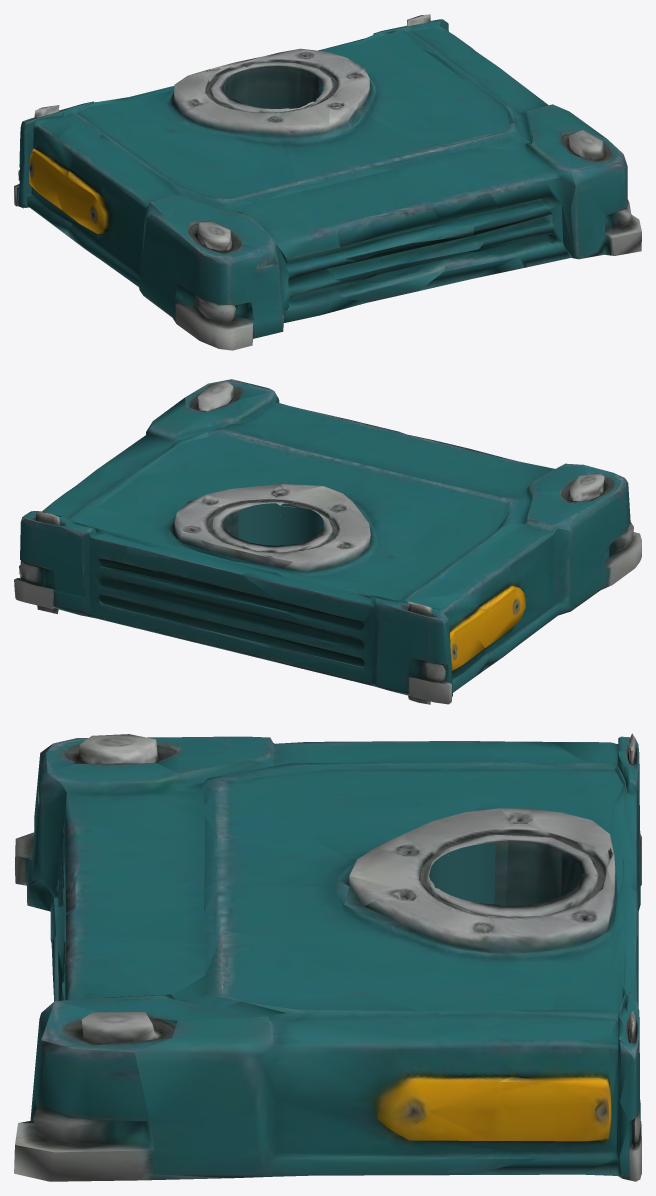
File: shaft-motor.glb
3 renders of one model, top to bottom at view 1: azimuth 30°, elevation 25°; view 2: azimuth 150°, elevation 25°; view 3: azimuth 270°, elevation 25°, orthographic. The views are drawn at different scales.
Parts seen in each view (by area): view 1: shaft-motor-body; view 2: shaft-motor-body; view 3: shaft-motor-body.
Part boxes in pixels (x1=…): shaft-motor-body: x1=14, y1=14, x2=641, y2=350; shaft-motor-body: x1=14, y1=379, x2=641, y2=704; shaft-motor-body: x1=14, y1=733, x2=641, y2=1181.
Size of the model in its own units: 1.1 by 0.25 by 0.9.
1 material, 1 textured.
